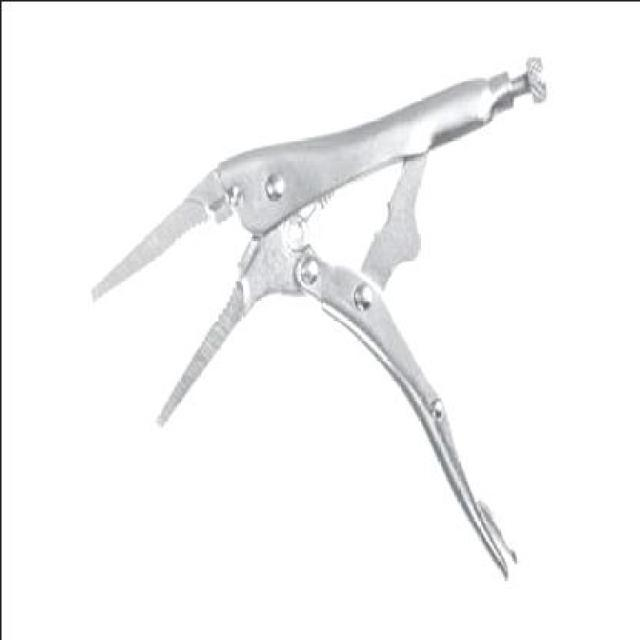pliers: (80, 42, 548, 580)
